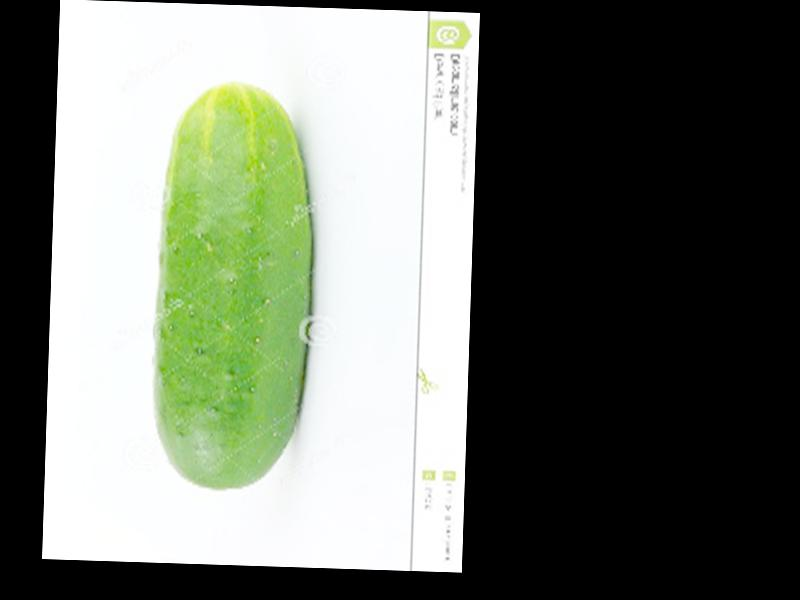Cucumber: (152, 82, 318, 493)
